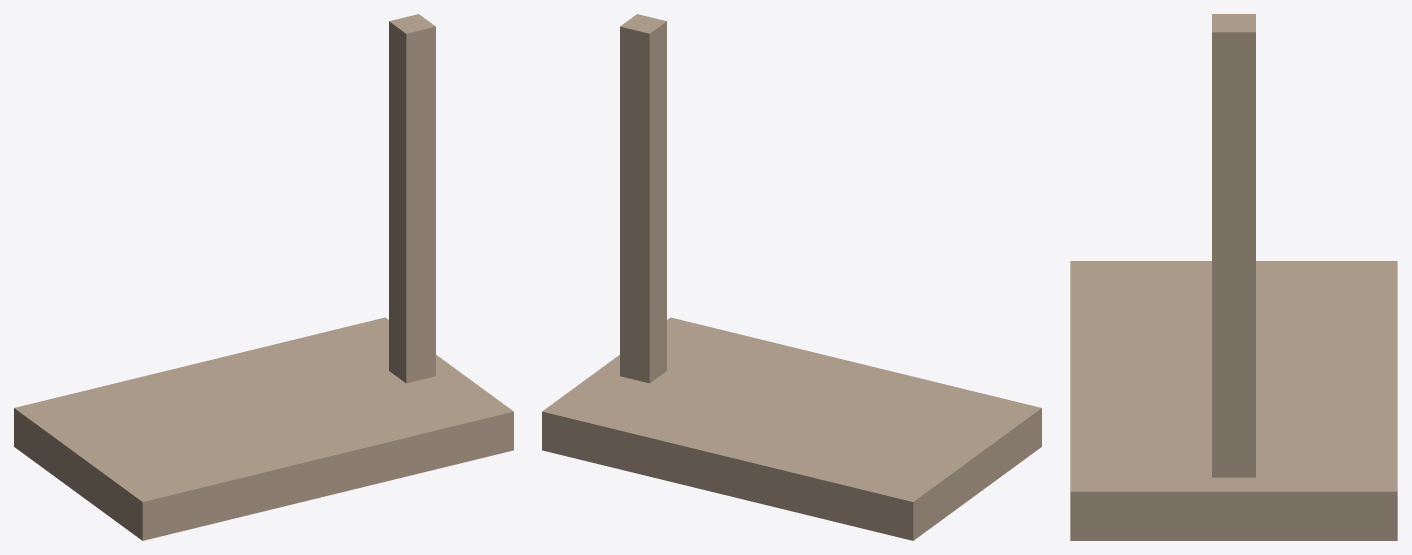
Rendered from ResourceNode_FishSpot.fbx.
The picture shows the model from 3 angles, left to right: view 1: azimuth 30°, elevation 25°; view 2: azimuth 150°, elevation 25°; view 3: azimuth 270°, elevation 25°; orthographic projection. The views are drawn at different scales.
Parts seen in each view (by area): view 1: FishingNode; view 2: FishingNode; view 3: FishingNode.
Part boxes in pixels (<box>): FishingNode: <box>14,14,513,540</box>; FishingNode: <box>542,14,1041,540</box>; FishingNode: <box>1070,14,1397,540</box>.
Size of the model in its own units: 1 by 1 by 0.6.
